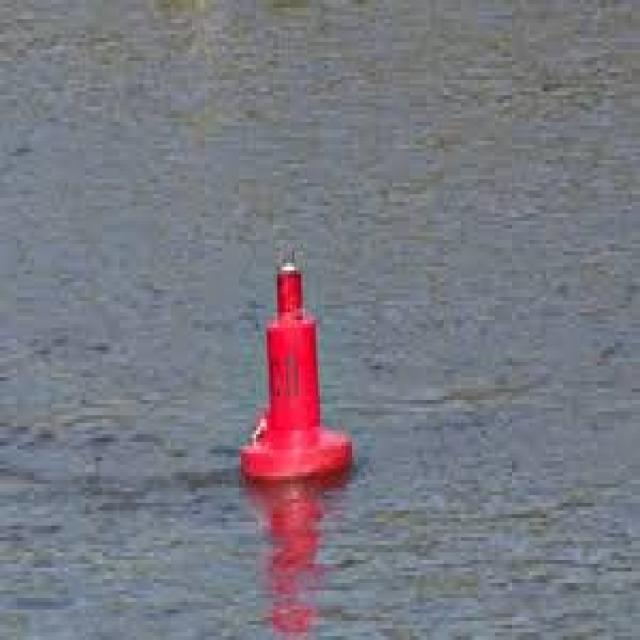buoy: (236, 225, 362, 496)
